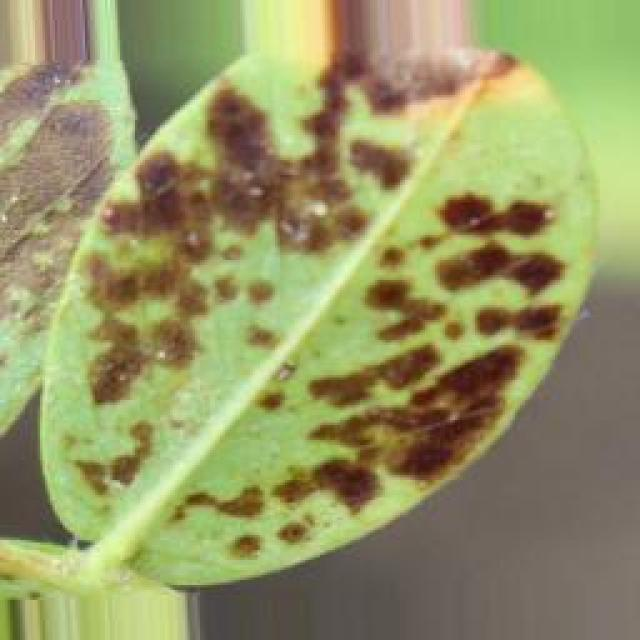Whitefly: (0, 4, 566, 552)
